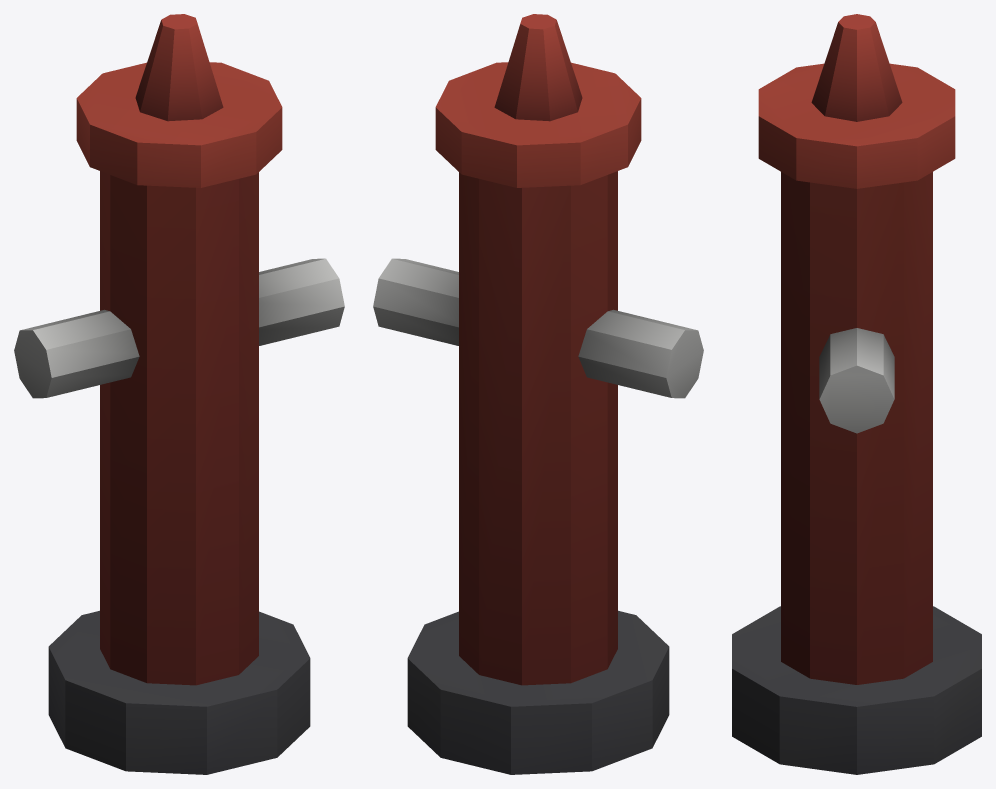
Rendered from hydrant.glb.
The picture shows the model from 3 angles, left to right: view 1: azimuth 30°, elevation 25°; view 2: azimuth 150°, elevation 25°; view 3: azimuth 270°, elevation 25°; orthographic projection.
Parts seen in each view (by area): view 1: lack; view 2: lack; view 3: lack.
Part boxes in pixels (<box>): lack: <box>14,14,344,774</box>; lack: <box>373,14,703,774</box>; lack: <box>732,14,981,774</box>.
Bounding box in the file's own units: 0.36 × 0.82 × 0.2663.
